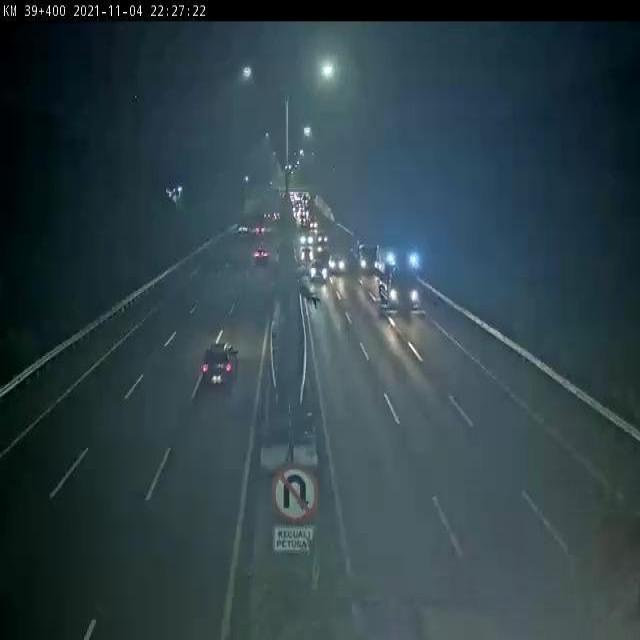car: (200, 342, 237, 387), (328, 255, 347, 277), (309, 256, 326, 280), (250, 250, 270, 270)
truck-l-: (376, 241, 421, 312)
truck-xl-: (350, 235, 380, 272)
